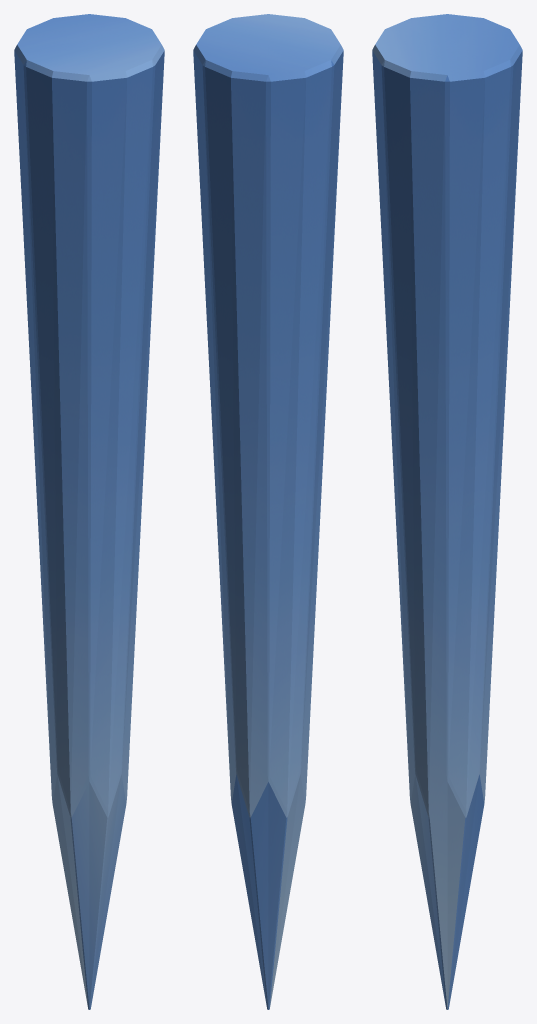
The model's file is icicle_R_1.fbx.
3 renders of one model, left to right at view 1: azimuth 30°, elevation 25°; view 2: azimuth 150°, elevation 25°; view 3: azimuth 270°, elevation 25°, orthographic.
Parts seen in each view (by area): view 1: icicle 12.001; view 2: icicle 12.001; view 3: icicle 12.001.
Part boxes in pixels (left/top/right/bottom): icicle 12.001: left=14, top=14, right=164, bottom=1009; icicle 12.001: left=193, top=14, right=343, bottom=1009; icicle 12.001: left=372, top=14, right=522, bottom=1009.
Size of the model in its own units: 58.61 by 418 by 59.11.
Materials: 1 (1 with a texture image).
